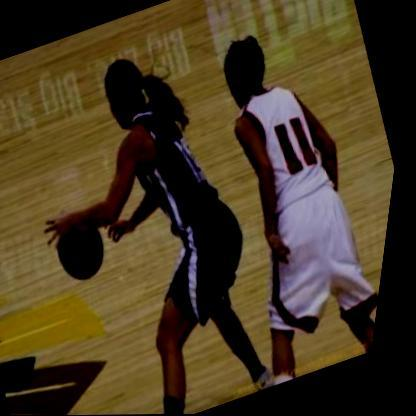basketball: (48, 210, 125, 290)
